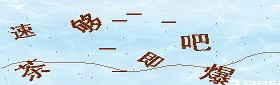chinese: (71, 10, 106, 37), (180, 29, 213, 57), (15, 57, 51, 81), (202, 64, 235, 85), (136, 48, 166, 71), (8, 21, 38, 39)
